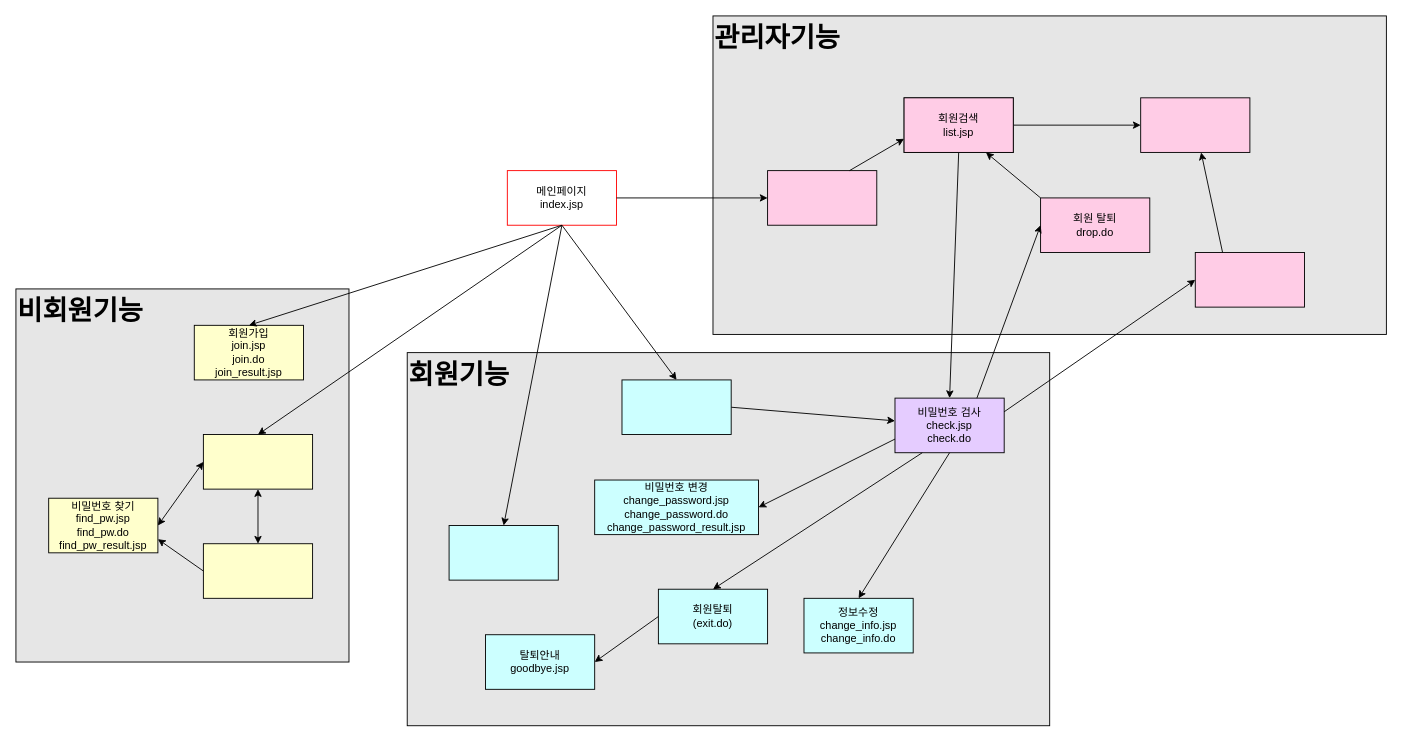
Some shapes in this 1402 by 742 pixel diagram are drawn without their labels. Here are the shapes that lost their labels. From the top down, the centre of each, then its label:
point 1195,124: 회원 정보보기 detail.jsp
point 822,197: 관리 메인 home.jsp
point 1249,279: 회원 정보수정 edit.jsp edit.do
point 676,407: 내정보 info.jsp
point 257,461: 로그인 login.jsp login.do
point 257,570: 아이디 찾기 find_id.jsp find_id.do find_id_result.jsp
point 503,552: 로그아웃 logout.do
